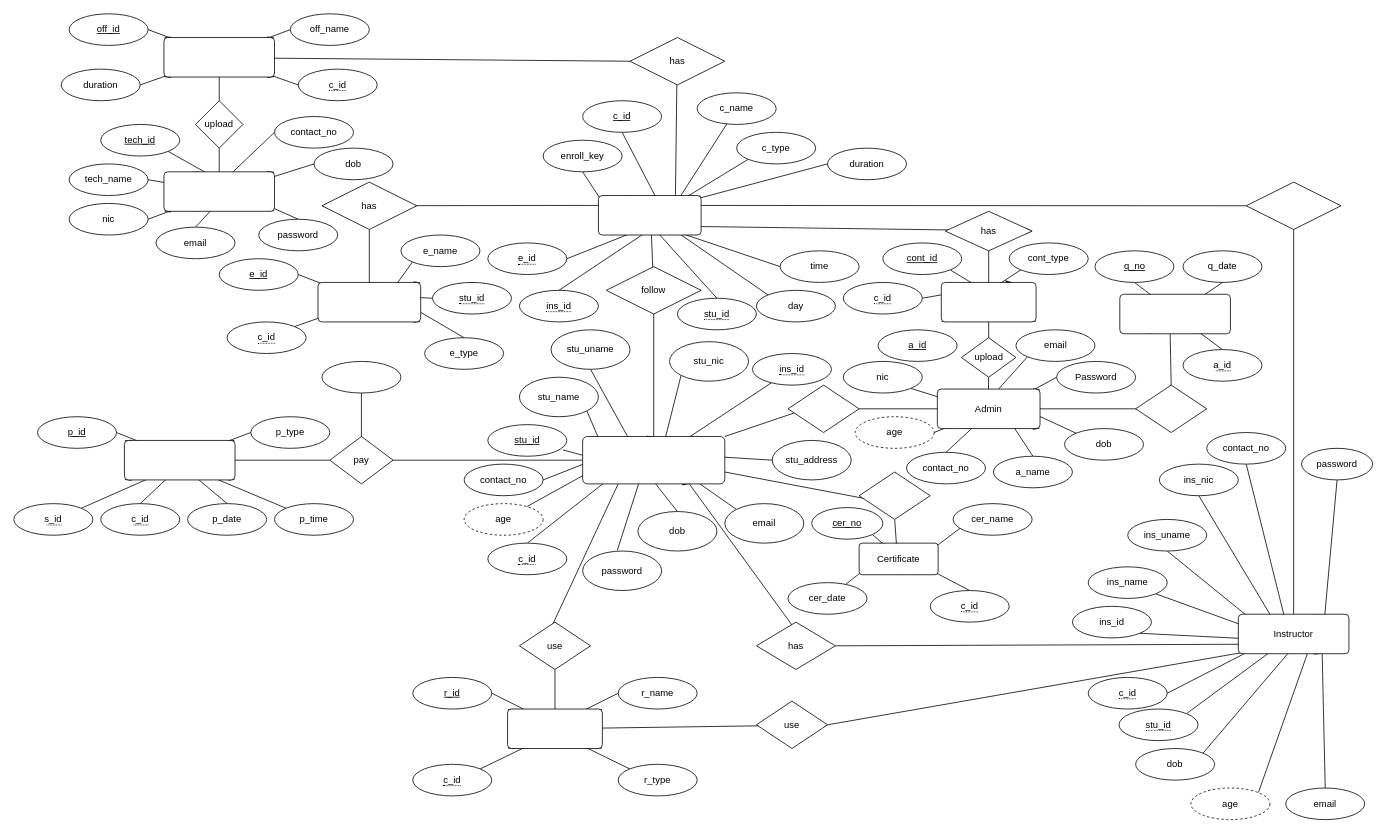
This 1386x833 diagram has some shape labels left out. The shapes that lost their labels are listed below. From the top down, each one's box as (x1, y1, x2, y2) in pixels, then its label:
(163, 37, 275, 77): Offer
(163, 171, 275, 211): Technician
(1245, 181, 1341, 229): conduct
(598, 195, 701, 235): Course
(317, 282, 421, 322): Exam
(940, 282, 1036, 322): Content
(1119, 293, 1230, 334): Support
(321, 361, 401, 393): Amount
(787, 384, 859, 433): assign
(1135, 384, 1207, 433): provide
(124, 440, 235, 480): Payment
(582, 436, 725, 484): Student
(858, 471, 930, 519): recieve
(507, 708, 602, 749): Resource
